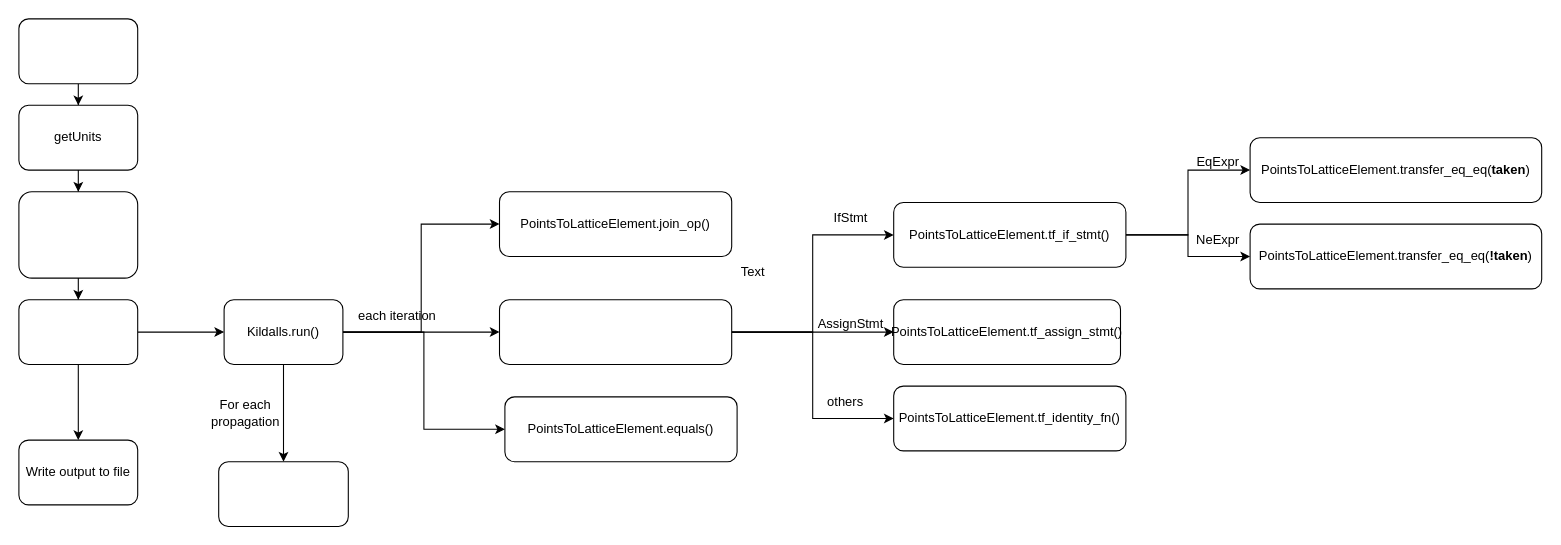
Image size: 1561x545. Some labels were removed from this diagram. Each missing label, with the centre of its shape:
Analysis.main: the point at 78,51
build list of program points: the point at 78,331
Kildalls.propagate(): the point at 283,493
PointsToLatticeElement.transfer(): the point at 615,331
update x = new ... x = fun() statements to x = newXX: the point at 78,234
